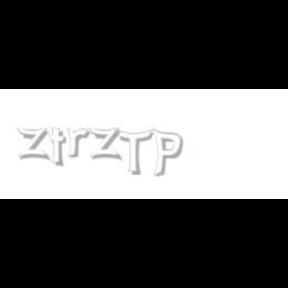P: (151, 128, 183, 178)
T: (113, 128, 153, 176)
r: (66, 128, 94, 158)
t: (49, 128, 71, 168)
z: (16, 128, 52, 160), (88, 128, 124, 160)
